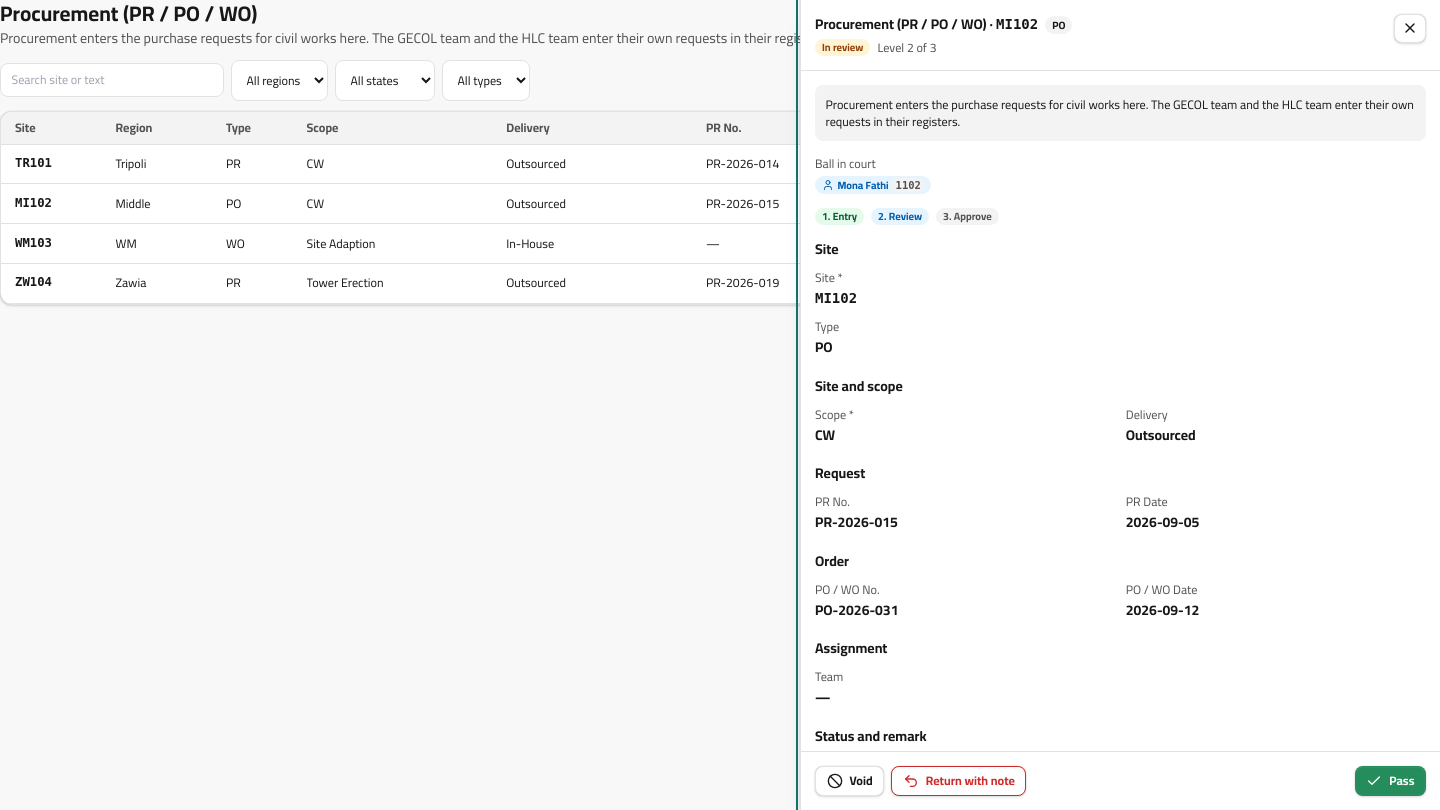
Test: Manual entry: create, submit, review, approve › rolls back the optimistic state when the server refuses (stale version)
The image size is (1440, 810).
Click the button with test id "reg-review" at point(1390, 781), box [1355,766,1426,796]
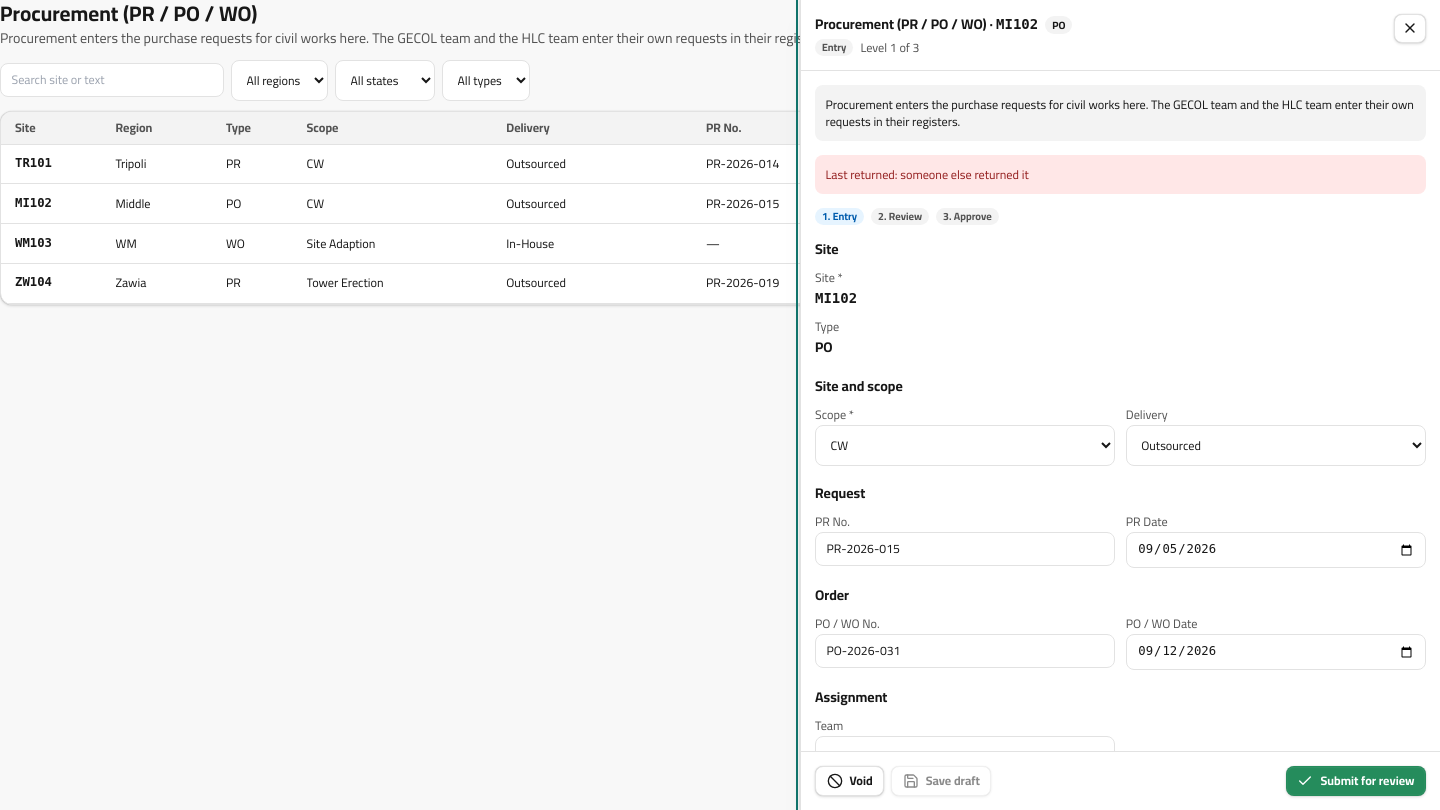
expect the text with test id "toast" shows "Someone changed this": met, box [1093,768,1411,790]
